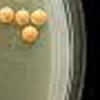yellow: (16, 22, 41, 45), (27, 6, 48, 29), (12, 6, 30, 27), (0, 5, 15, 26)
